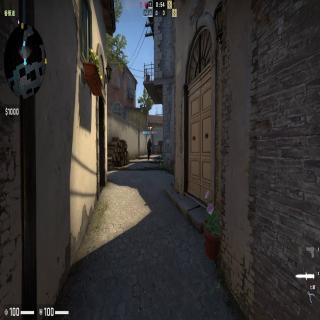CT-Body: (147, 138, 152, 160)
